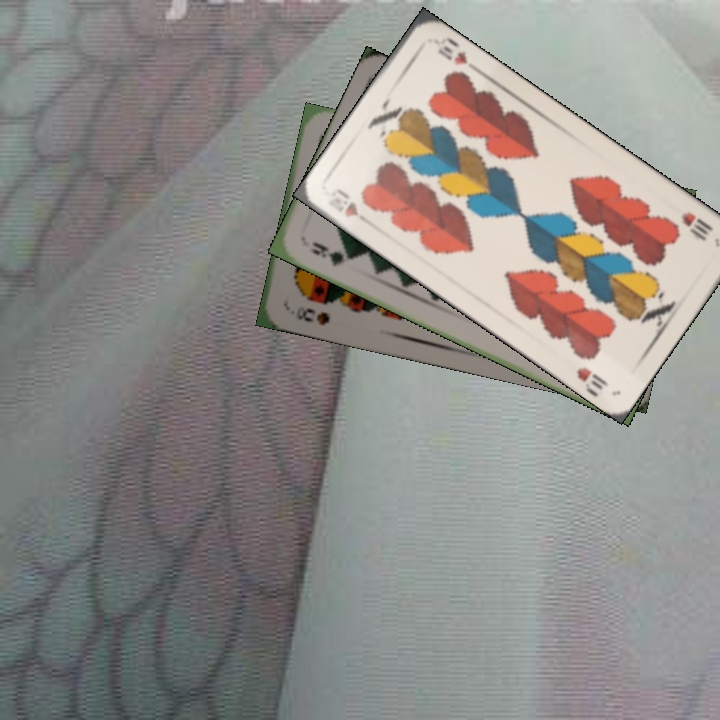G9: (307, 237, 355, 269)
H10: (677, 207, 716, 244), (332, 184, 361, 221)
S8: (293, 304, 333, 328)
